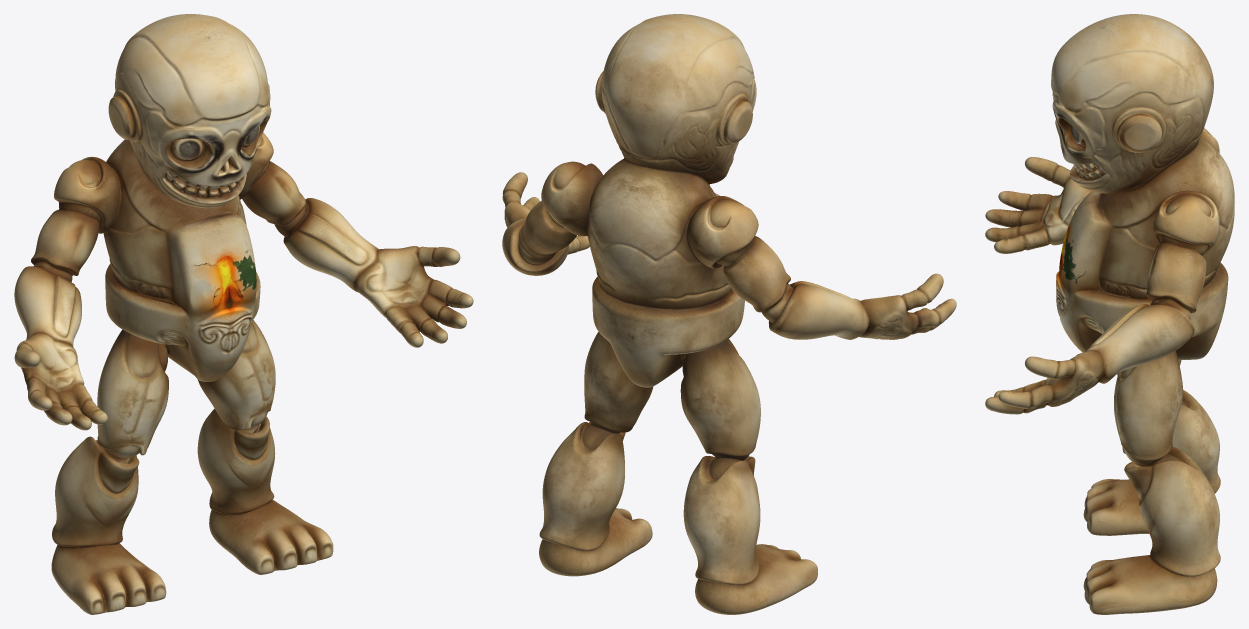
Rendered from golem-hero-textured.glb.
3 renders of one model, left to right at view 1: azimuth 30°, elevation 25°; view 2: azimuth 150°, elevation 25°; view 3: azimuth 270°, elevation 25°, orthographic. The views are drawn at different scales.
Size of the model in its own units: 1.57 by 1.9 by 0.7999.
1 material, 1 textured.
